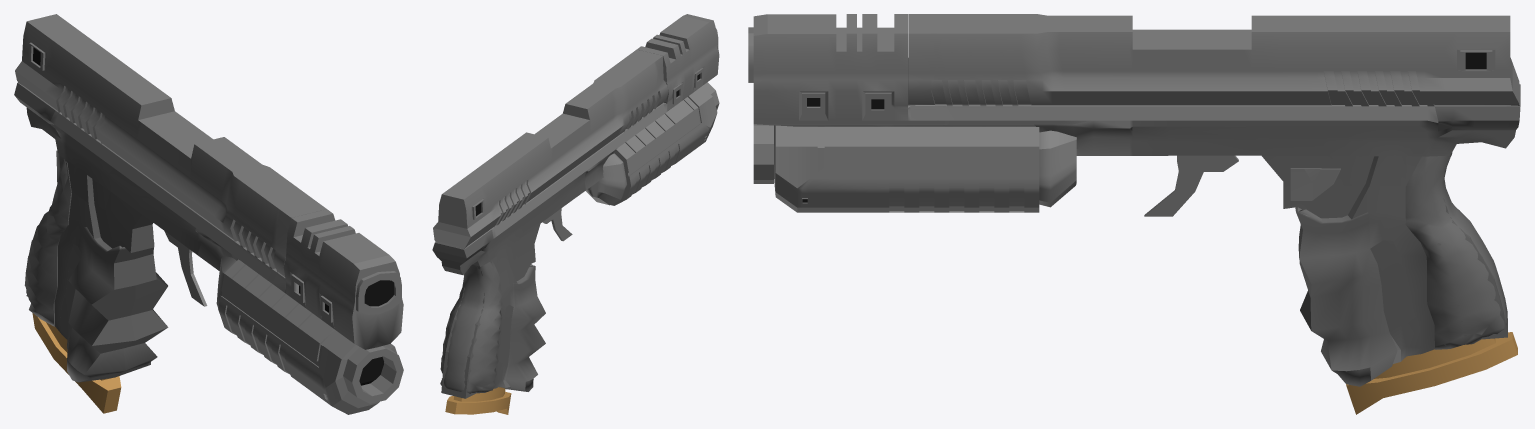
File: TasorHandgun_Modify02.fbx
The picture shows the model from 3 angles, left to right: view 1: azimuth 30°, elevation 25°; view 2: azimuth 150°, elevation 25°; view 3: azimuth 270°, elevation 25°; orthographic projection. The views are drawn at different scales.
Visible parts, largest first — view 1: polySurface24, polySurface15, polySurface13, polySurface5, polySurface3; view 2: polySurface24, polySurface15, polySurface13, polySurface5, polySurface3; view 3: polySurface24, polySurface15, polySurface13, polySurface5, polySurface3, polySurface12.
Part boxes in pixels (x1,y1,x2,y2): polySurface24: [14, 83, 403, 382]; polySurface15: [15, 14, 326, 277]; polySurface13: [216, 256, 403, 414]; polySurface5: [32, 313, 121, 413]; polySurface3: [164, 231, 207, 306]; polySurface24: [432, 14, 719, 398]; polySurface15: [433, 49, 668, 249]; polySurface13: [586, 82, 719, 205]; polySurface5: [445, 387, 511, 414]; polySurface3: [542, 208, 572, 241]; polySurface24: [748, 14, 1520, 386]; polySurface15: [908, 14, 1520, 106]; polySurface13: [753, 124, 1076, 212]; polySurface5: [1346, 332, 1517, 414]; polySurface3: [1144, 155, 1238, 216]; polySurface12: [1290, 168, 1340, 200].
Size of the model in its own units: 3.8 by 16.09 by 29.07.
